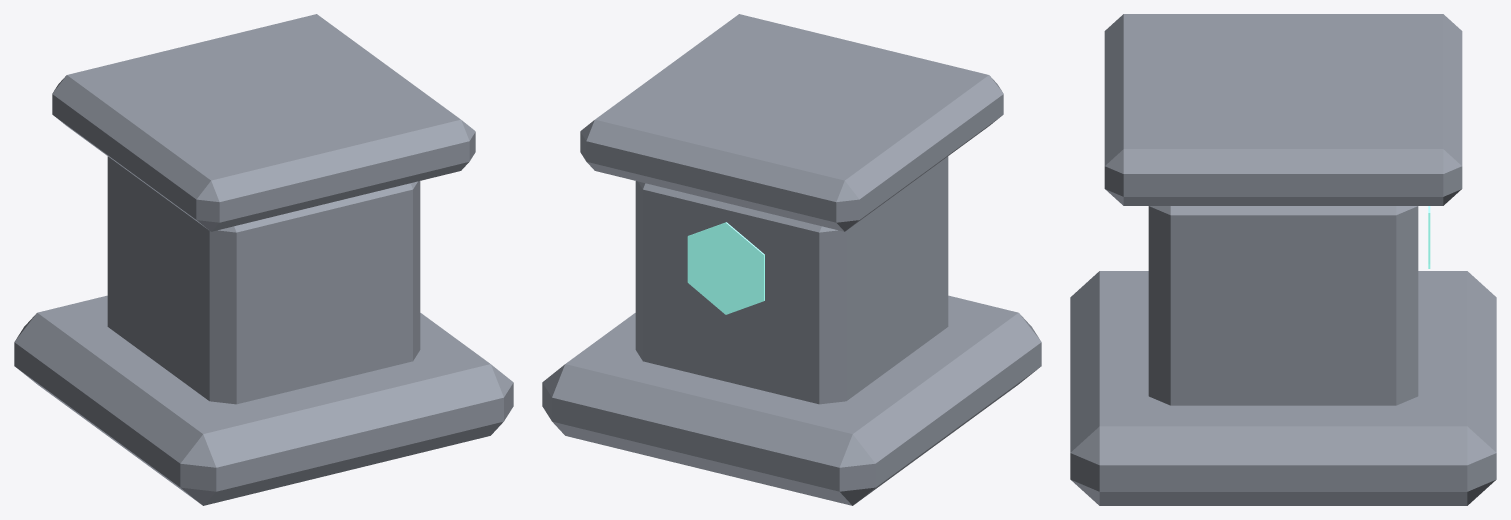
The model's file is totem_dominio.glb.
3 views of the same model, side by side, from view 1: azimuth 30°, elevation 25°; view 2: azimuth 150°, elevation 25°; view 3: azimuth 270°, elevation 25° (orthographic). The views are drawn at different scales.
Parts seen in each view (by area): view 1: vulcao_totem_dominio; view 2: vulcao_totem_dominio; view 3: vulcao_totem_dominio.
Boxes of the visible parts, x1,y1,x2,y2 form: vulcao_totem_dominio: (14, 14, 513, 505); vulcao_totem_dominio: (542, 14, 1041, 505); vulcao_totem_dominio: (1070, 14, 1496, 505).
Bounding box in the file's own units: 0.68 × 0.61 × 0.68.
